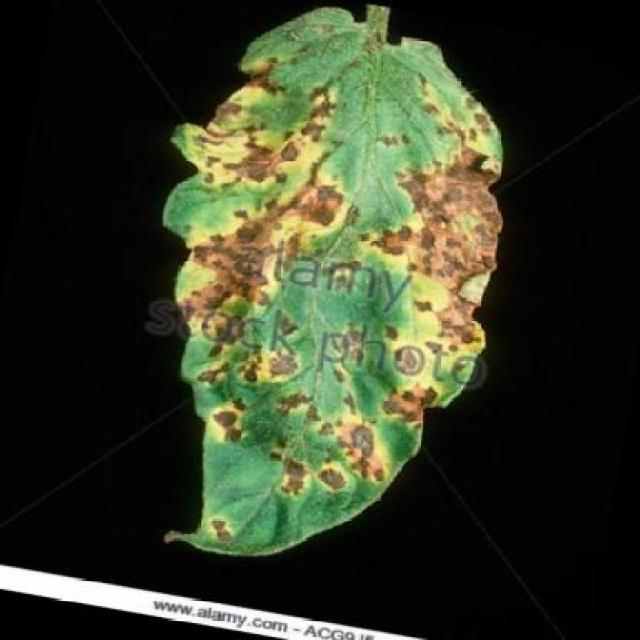Septoria leaf spot: (84, 0, 562, 602)
